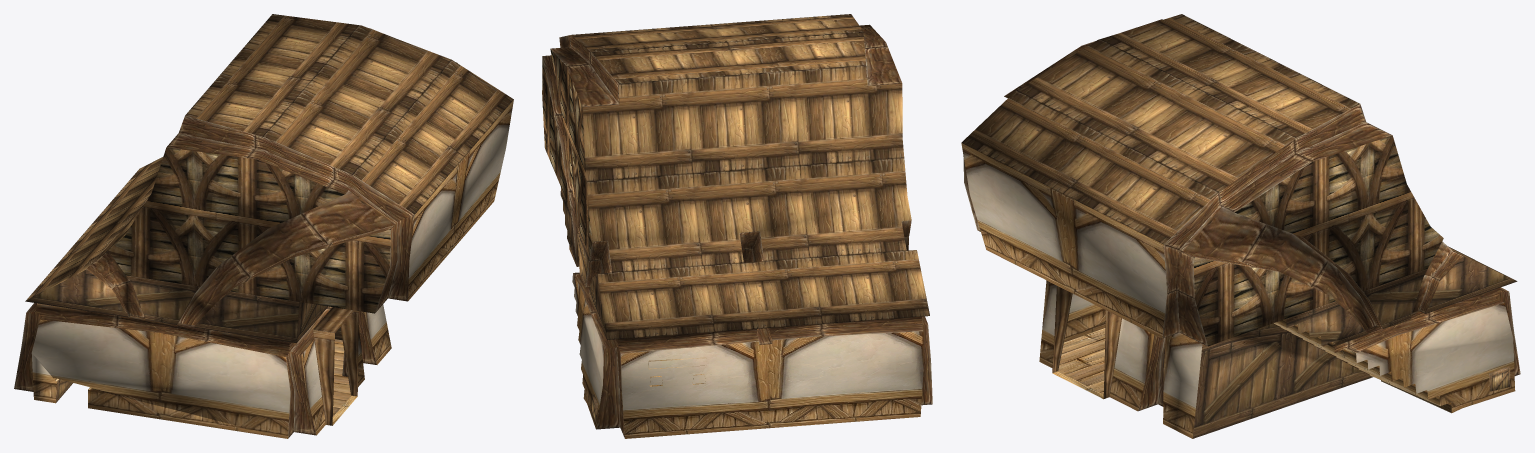
File: stormwind_070.fbx
The picture shows the model from 3 angles, left to right: view 1: azimuth 30°, elevation 25°; view 2: azimuth 150°, elevation 25°; view 3: azimuth 270°, elevation 25°; orthographic projection. The views are drawn at different scales.
Visible parts, largest first — view 1: stormwind_070_55, stormwind_070_48, stormwind_070_49, stormwind_070_53, stormwind_070_56, stormwind_070_51; view 2: stormwind_070_55, stormwind_070_48, stormwind_070_53, stormwind_070_49, stormwind_070_56; view 3: stormwind_070_55, stormwind_070_48, stormwind_070_49, stormwind_070_53, stormwind_070_56, stormwind_070_51.
Part boxes in pixels (bbox=[...]): stormwind_070_55: bbox=[26, 14, 513, 300]; stormwind_070_48: bbox=[31, 100, 513, 438]; stormwind_070_49: bbox=[108, 147, 390, 425]; stormwind_070_53: bbox=[14, 28, 457, 438]; stormwind_070_56: bbox=[25, 269, 342, 402]; stormwind_070_51: bbox=[333, 339, 350, 415]; stormwind_070_55: bbox=[571, 14, 929, 339]; stormwind_070_48: bbox=[569, 245, 923, 438]; stormwind_070_53: bbox=[542, 24, 932, 438]; stormwind_070_49: bbox=[542, 49, 592, 255]; stormwind_070_56: bbox=[560, 187, 606, 338]; stormwind_070_55: bbox=[961, 14, 1515, 280]; stormwind_070_48: bbox=[961, 143, 1515, 438]; stormwind_070_49: bbox=[1052, 135, 1443, 398]; stormwind_070_53: bbox=[963, 19, 1520, 412]; stormwind_070_56: bbox=[1192, 256, 1516, 438]; stormwind_070_51: bbox=[1058, 328, 1105, 393].
Bounding box in the file's own units: 21.55 × 13.57 × 21.96.
